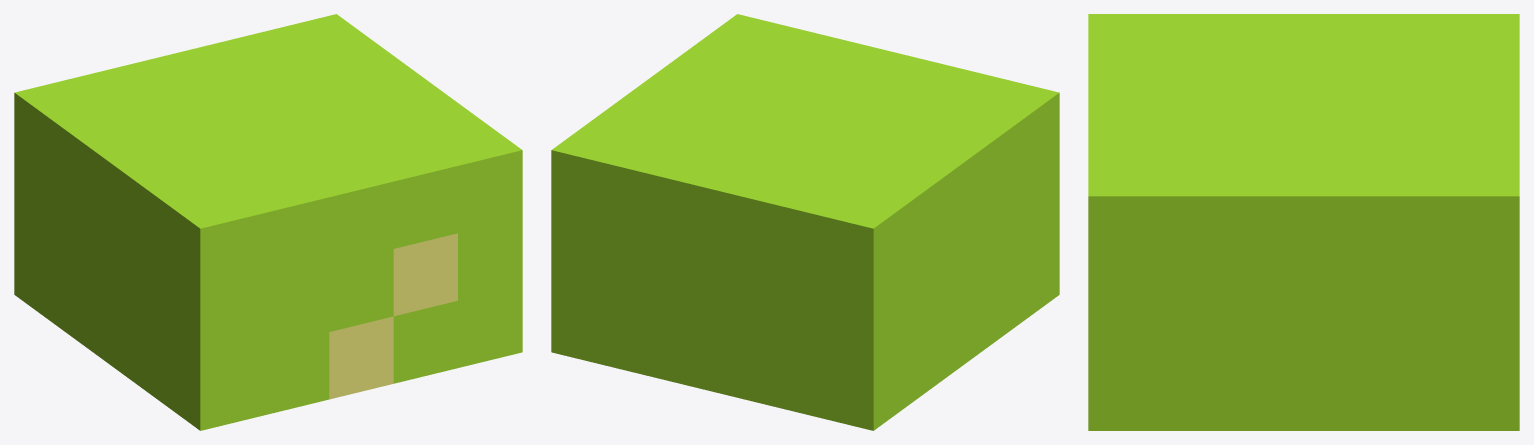
Rendered from blob_a_walk_2.obj.
3 renders of one model, left to right at view 1: azimuth 30°, elevation 25°; view 2: azimuth 150°, elevation 25°; view 3: azimuth 270°, elevation 25°, orthographic. The views are drawn at different scales.
Size of the model in its own units: 0.5 by 0.3 by 0.5.
1 material, 1 textured.
